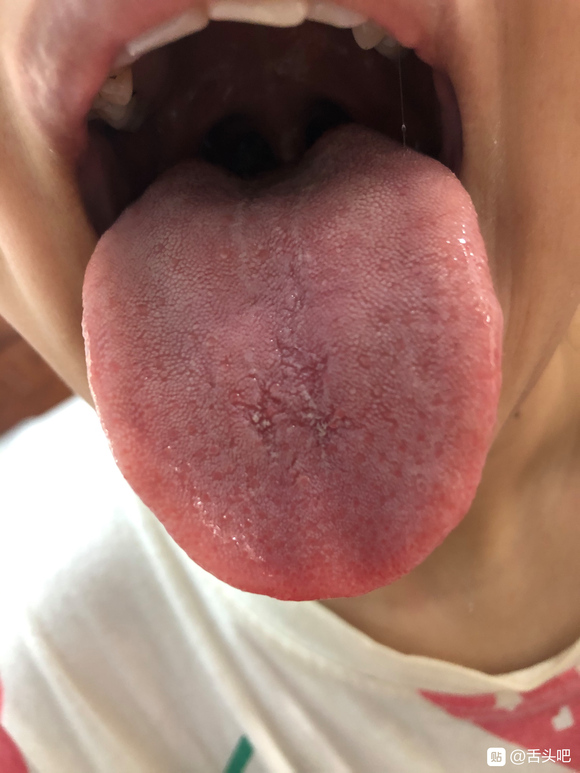baitaishe: (82, 123, 503, 601)
hongshe: (82, 123, 503, 601)
shenquao: (165, 124, 355, 199)
